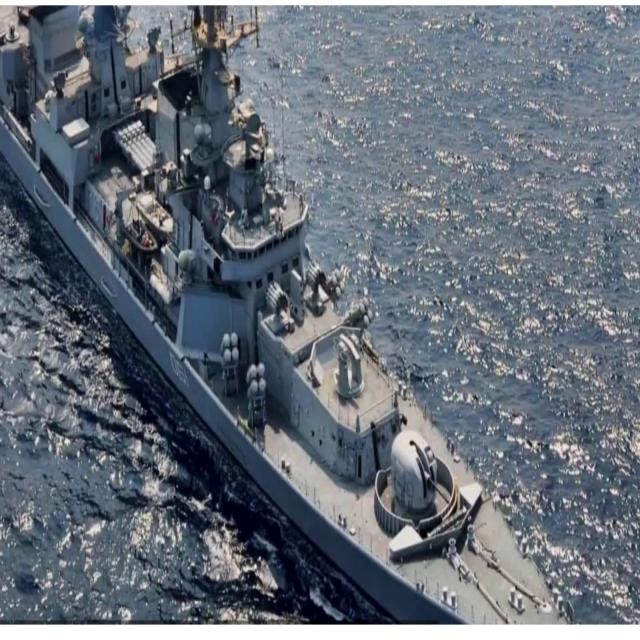OCR: (164, 343, 190, 400)
